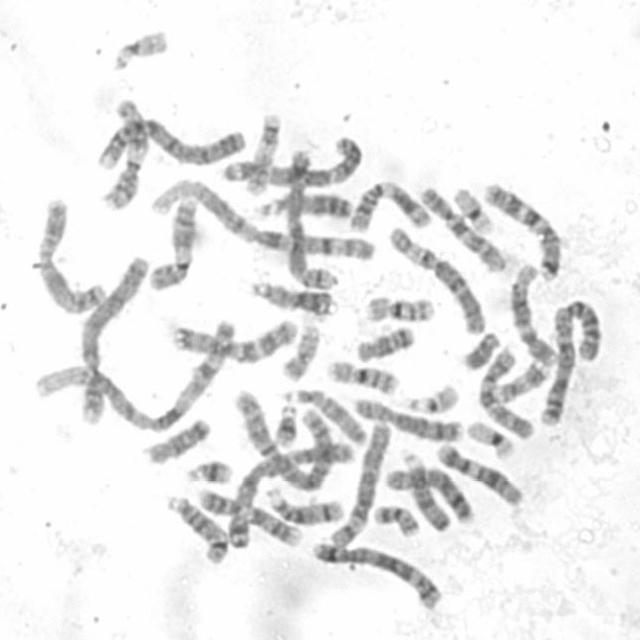A1: (34, 318, 236, 432), (150, 179, 378, 262)
A2: (236, 391, 334, 493), (540, 299, 602, 428)
A3: (228, 441, 355, 549), (223, 136, 363, 188)
B4: (79, 254, 149, 427), (98, 117, 247, 170)
B5: (311, 542, 444, 608), (285, 148, 338, 290)
C10: (419, 187, 505, 273), (478, 349, 535, 442)
C11: (104, 100, 148, 210), (347, 180, 433, 233)
C12: (436, 444, 524, 506), (509, 263, 556, 364)
C6: (389, 226, 486, 332), (330, 422, 392, 548)
C7: (484, 182, 562, 282), (170, 319, 299, 365)
C8: (385, 465, 476, 528), (352, 398, 463, 443)
C9: (196, 487, 303, 547), (150, 198, 199, 290)
D13: (251, 192, 353, 226), (251, 280, 338, 317)
D14: (166, 494, 230, 564), (264, 487, 345, 527)
D15: (284, 389, 368, 447), (399, 450, 451, 532)
E16: (326, 359, 398, 396), (365, 296, 434, 324)
E17: (246, 113, 281, 193), (492, 358, 551, 404)
E18: (143, 418, 212, 464), (355, 325, 414, 362)
F19: (453, 187, 496, 235), (466, 421, 516, 462)
F20: (282, 327, 322, 383), (372, 504, 421, 538)
G21: (186, 459, 234, 485), (274, 404, 298, 446)
G22: (113, 30, 167, 71), (408, 383, 458, 415)
X: (37, 198, 105, 314)
Y: (462, 332, 501, 369)
